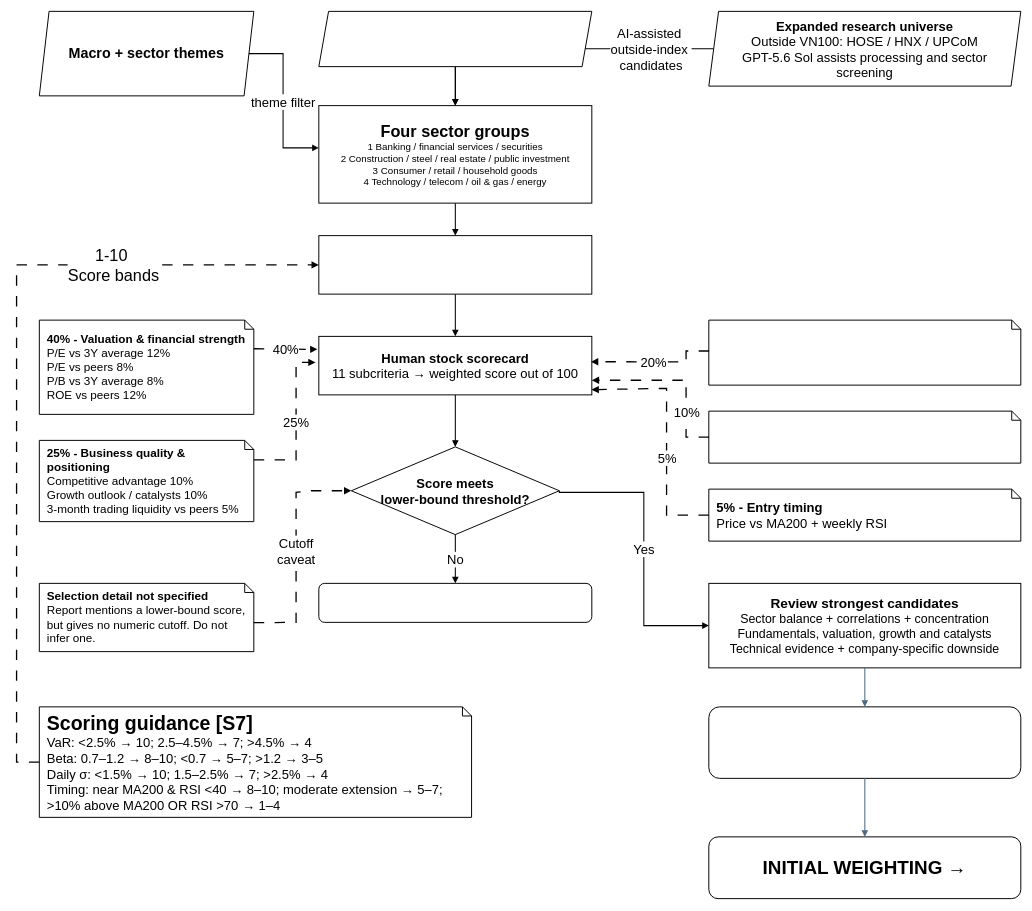
This 1032x911 diagram has some shape labels left out. The shapes that lost their labels are listed below. From the top down, each one's centre as x and y in pixels, then its label:
(455,39): Core research universe VN100 = VN30 (30) + VNMidcap (70)
(455,264): Sector shortlist 42 candidates reported
(864,352): 20% - Risk characteristics 1-day 99% historical VaR 10% Beta vs VN-Index 10%
(864,436): 10% - Volatility Standard deviation of daily returns
(455,603): Exclude from retained shortlist
(864,742): Final basket: 8 names HPG - CTG - VPB - FPT CTD - MSN - VGI - MSR
